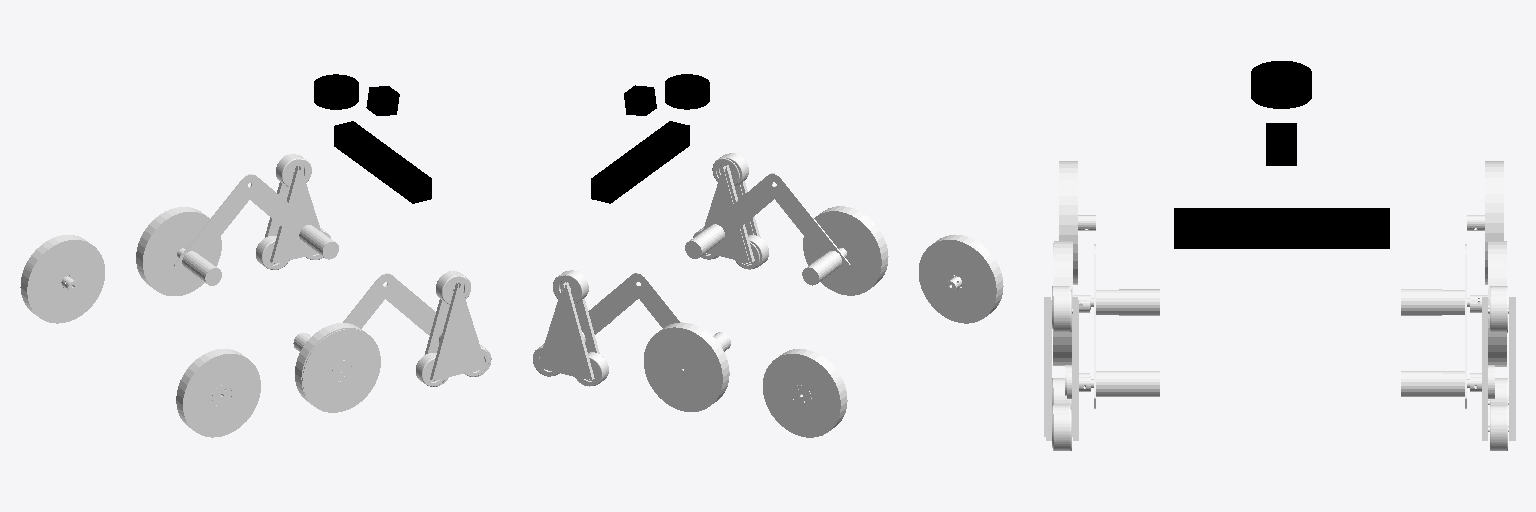
The robot description file, URDF, robot "r2krishna":
<?xml version="1.0" encoding="utf-8"?>
<robot name="r2krishna">

  <material name="white"><color rgba="1 1 1 1"/></material>
  <material name="black"><color rgba="0 0 0 1"/></material>
  <material name="red"><color rgba="1 0 0 1"/></material>

  <link name="base_footprint"/>
  <joint name="base_footprint_joint" type="fixed">
    <parent link="base_footprint"/>
    <child link="base_link"/>
    <origin xyz="0 0 0" rpy="0 0 0"/>
  </joint>

  <link name="base_link">
    <inertial>
      <origin xyz="-0.1 0 -0.05" rpy="0 0 0"/> 
      <mass value="25.0"/> 
      <inertia ixx="0.5" ixy="0" ixz="0" iyy="0.5" iyz="0" izz="0.5"/>
    </inertial>
    <visual>
      <origin xyz="0 0 0" rpy="0 0 0"/>
      <geometry><mesh filename="package://r2krishna/meshes/base.STL"/></geometry>
      <material name="white"/>
    </visual>
    <collision>
      <origin xyz="0 0 0.05" rpy="0 0 0"/>
      <geometry><box size="0.6 0.4 0.15"/></geometry>
    </collision>
  </link>

  <link name="imu_link"/>
  <joint name="imu_joint" type="fixed">
    <parent link="base_link"/>
    <child link="imu_link"/>
    <origin xyz="0 0 0" rpy="0 0 0"/>
  </joint>

  <link name="lidar_link">
    <visual><geometry><cylinder radius="0.05" length="0.04"/></geometry><material name="black"/></visual>
    <inertial><mass value="0.1"/><inertia ixx="0.0001" ixy="0" ixz="0" iyy="0.0001" iyz="0" izz="0.0001"/></inertial>
  </link>
  <joint name="lidar_joint" type="fixed">
    <parent link="base_link"/>
    <child link="lidar_link"/>
    <origin xyz="0.20 0 0.25" rpy="0 0 0"/>
  </joint>

  <link name="camera_link">
    <visual><geometry><box size="0.05 0.05 0.05"/></geometry><material name="black"/></visual>
    <inertial><mass value="0.05"/><inertia ixx="0.0001" ixy="0" ixz="0" iyy="0.0001" iyz="0" izz="0.0001"/></inertial>
  </link>
  <joint name="camera_joint" type="fixed">
    <parent link="base_link"/>
    <child link="camera_link"/>
    <origin xyz="0.32 0 0.2" rpy="0 0.15 0"/>
  </joint>

  <gazebo reference="camera_link">
    <sensor name="camera" type="camera"> 
      <visualize>true</visualize>
      <update_rate>30</update_rate>
      <topic>/camera/image_raw</topic> 
      <camera>
        <horizontal_fov>1.047</horizontal_fov>
        <image><width>640</width><height>480</height><format>R8G8B8</format></image>
        <clip><near>0.05</near><far>10.0</far></clip>
       </camera>
    </sensor>
  </gazebo>

  <link name="bumper_link">
    <visual><geometry><box size="0.05 0.35 0.05"/></geometry><material name="black"/></visual>
    <collision name="bumper_collision"><geometry><box size="0.05 0.35 0.05"/></geometry></collision>
    <inertial><mass value="0.1"/><inertia ixx="0.001" ixy="0" ixz="0" iyy="0.001" iyz="0" izz="0.001"/></inertial>
  </link>
  <joint name="bumper_joint" type="fixed"><parent link="base_link"/><child link="bumper_link"/><origin xyz="0.32 0 0.05" rpy="0 0 0"/></joint>

  <link name="left_rover_side">
    <inertial><origin xyz="-0.026 0 -0.145"/><mass value="5.0"/><inertia ixx="0.1" ixy="0" ixz="0" iyy="0.1" iyz="0" izz="0.1"/></inertial>
    <visual><geometry><mesh filename="package://r2krishna/meshes/left_rover_side.STL"/></geometry><material name="white"/></visual>
  </link>
  <joint name="left_rover_side_joint" type="revolute">
    <origin xyz="0.151 -0.3 -0.086"/><parent link="base_link"/><child link="left_rover_side"/><axis xyz="0 1 0"/>
    <limit lower="-0.4" upper="0.4" effort="1000" velocity="10"/>
    <dynamics damping="2.0" friction="1.0"/>
  </joint>

  <link name="left_1">
    <visual><geometry><mesh filename="package://r2krishna/meshes/left_1.STL"/></geometry><material name="white"/></visual>
    <collision><origin xyz="0 -0.02 0" rpy="1.57 0 0"/><geometry><cylinder radius="0.15" length="0.05"/></geometry></collision>
    <inertial><mass value="2.0"/><inertia ixx="0.1" ixy="0" ixz="0" iyy="0.1" iyz="0" izz="0.1"/></inertial>
  </link>
  <joint name="left_1_joint" type="continuous"><origin xyz="-0.15 -0.01 -0.15"/><parent link="left_rover_side"/><child link="left_1"/><axis xyz="0 1 0"/></joint>

  <link name="left_2">
    <visual><geometry><mesh filename="package://r2krishna/meshes/left_2.STL"/></geometry><material name="white"/></visual>
    <collision><origin xyz="0 -0.02 0" rpy="1.57 0 0"/><geometry><cylinder radius="0.15" length="0.05"/></geometry></collision>
    <inertial><mass value="2.0"/><inertia ixx="0.1" ixy="0" ixz="0" iyy="0.1" iyz="0" izz="0.1"/></inertial>
  </link>
  <joint name="left_2_joint" type="continuous"><origin xyz="-0.3 -0.3 -0.23"/><parent link="base_link"/><child link="left_2"/><axis xyz="0 1 0"/></joint>

  <link name="right_rover_side">
    <inertial><origin xyz="-0.026 0 -0.145"/><mass value="5.0"/><inertia ixx="0.1" ixy="0" ixz="0" iyy="0.1" iyz="0" izz="0.1"/></inertial>
    <visual><geometry><mesh filename="package://r2krishna/meshes/right_rover_side.STL"/></geometry><material name="white"/></visual>
  </link>
  <joint name="right_rover_side_joint" type="revolute">
    <origin xyz="0.151 0.295 -0.086"/><parent link="base_link"/><child link="right_rover_side"/><axis xyz="0 1 0"/>
    <limit lower="-0.4" upper="0.4" effort="1000" velocity="10"/>
    <dynamics damping="2.0" friction="1.0"/>
  </joint>

  <link name="right_1">
    <visual><geometry><mesh filename="package://r2krishna/meshes/right_1.STL"/></geometry><material name="white"/></visual>
    <collision><origin xyz="0 0.02 0" rpy="1.57 0 0"/><geometry><cylinder radius="0.15" length="0.05"/></geometry></collision>
    <inertial><mass value="2.0"/><inertia ixx="0.1" ixy="0" ixz="0" iyy="0.1" iyz="0" izz="0.1"/></inertial>
  </link>
  <joint name="right_1_joint" type="continuous"><origin xyz="-0.15 0.01 -0.15"/><parent link="right_rover_side"/><child link="right_1"/><axis xyz="0 1 0"/></joint>

  <link name="right_2">
    <visual><geometry><mesh filename="package://r2krishna/meshes/right_2.STL"/></geometry><material name="white"/></visual>
    <collision>
        <origin xyz="0 0.02 0" rpy="1.57 0 0"/><geometry><cylinder radius="0.15" length="0.05"/></geometry>
        <surface><friction><ode><mu>2.0</mu><mu2>2.0</mu2></ode></friction></surface>
    </collision>
    <inertial><mass value="2.0"/><inertia ixx="0.1" ixy="0" ixz="0" iyy="0.1" iyz="0" izz="0.1"/></inertial>
  </link>
  <joint name="right_2_joint" type="continuous"><origin xyz="-0.3 0.3 -0.23"/><parent link="base_link"/><child link="right_2"/><axis xyz="0 1 0"/></joint>

  <link name="tri_1">
    <visual><geometry><mesh filename="package://r2krishna/meshes/tri_1.STL"/></geometry><material name="white"/></visual>
    <collision><origin xyz="0 -0.04 0"/><geometry><box size="0.2 0.05 0.2"/></geometry></collision>
    <inertial><mass value="2.0"/><inertia ixx="0.1" ixy="0" ixz="0" iyy="0.1" iyz="0" izz="0.1"/></inertial>
  </link>
  <joint name="tri_1_joint" type="continuous"><origin xyz="0.14 -0.01 -0.15"/><parent link="left_rover_side"/><child link="tri_1"/><axis xyz="0 1 0"/></joint>

  <link name="tri_2">
    <visual><geometry><mesh filename="package://r2krishna/meshes/tri_2.STL"/></geometry><material name="white"/></visual>
    <collision><origin xyz="0 0.04 0"/><geometry><box size="0.2 0.05 0.2"/></geometry></collision>
    <inertial><mass value="2.0"/><inertia ixx="0.1" ixy="0" ixz="0" iyy="0.1" iyz="0" izz="0.1"/></inertial>
  </link>
  <joint name="tri_2_joint" type="continuous"><origin xyz="0.14 0.01 -0.15"/><parent link="right_rover_side"/><child link="tri_2"/><axis xyz="0 1 0"/></joint>

  <link name="caster_back">
    <collision>
        <geometry><sphere radius="0.1"/></geometry>
        <surface>
            <friction>
                <ode>
                    <mu>0.0</mu>
                    <mu2>0.0</mu2>
                    <slip1>1.0</slip1>
                    <slip2>1.0</slip2>
                </ode>
            </friction>
        </surface>
    </collision>
    <inertial><mass value="15.0"/><inertia ixx="0.1" ixy="0" ixz="0" iyy="0.1" iyz="0" izz="0.1"/></inertial>
  </link>
  <joint name="caster_back_joint" type="fixed"><parent link="base_link"/><child link="caster_back"/><origin xyz="-0.3 0 -0.15"/></joint>

  <gazebo>
    <plugin filename="gz-sim-diff-drive-system" name="gz::sim::systems::DiffDrive">
      <left_joint>left_2_joint</left_joint><left_joint>left_1_joint</left_joint>
      <right_joint>right_2_joint</right_joint><right_joint>right_1_joint</right_joint>
      <wheel_separation>0.6</wheel_separation><wheel_radius>0.15</wheel_radius>
      <topic>/cmd_vel</topic><odom_topic>/odom</odom_topic><tf_topic>/tf</tf_topic>
      <frame_id>odom</frame_id><child_frame_id>base_footprint</child_frame_id>
    </plugin>
    <plugin filename="gz-sim-diff-drive-system" name="gz::sim::systems::DiffDrive">
      <left_joint>tri_1_joint</left_joint><right_joint>tri_2_joint</right_joint>
      <wheel_separation>0.6</wheel_separation><wheel_radius>0.15</wheel_radius>
      <topic>/cmd_vel_front</topic>
    </plugin>
    <plugin filename="gz-sim-joint-state-publisher-system" name="gz::sim::systems::JointStatePublisher"><topic>joint_states</topic></plugin>
    <plugin filename="gz-sim-imu-system" name="gz::sim::systems::Imu"></plugin>
  </gazebo>
  
  <gazebo reference="lidar_link">
    <sensor name="lidar" type="gpu_lidar">
      <pose>0 0 0 0 0 0</pose><visualize>true</visualize><update_rate>10</update_rate><topic>/scan</topic>
      <ray><scan><horizontal><samples>360</samples><min_angle>-3.14</min_angle><max_angle>3.14</max_angle></horizontal></scan><range><min>0.05</min><max>25.0</max></range></ray>
    </sensor>
  </gazebo>
  <gazebo reference="imu_link"><sensor name="imu" type="imu"><topic>/imu</topic><update_rate>50</update_rate><always_on>1</always_on></sensor></gazebo>
</robot>

--- Facts derived from the render (not from the file) ---
3 views of the same robot in one strip: view 1: azimuth 30°, elevation 25°; view 2: azimuth 150°, elevation 25°; view 3: azimuth 270°, elevation 25° (orthographic).
Model r2krishna with 15 links and 14 joints (2 revolute, 6 continuous, 6 fixed), rooted at base_footprint, posed all joints at 0.
Visible links, largest first — view 1: right_rover_side, right_2, left_2, left_1, tri_1, left_rover_side, bumper_link, tri_2, lidar_link, right_1, camera_link; view 2: left_rover_side, right_rover_side, left_2, right_2, bumper_link, tri_2, right_1, lidar_link, tri_1, camera_link; view 3: bumper_link, right_rover_side, left_rover_side, lidar_link, left_2, right_2, camera_link, tri_1, right_1, left_1, tri_2.
Link boxes in pixels (box(x1,y1,x2,y2)): right_rover_side: box(136, 155, 338, 295); right_2: box(20, 235, 104, 323); left_2: box(176, 349, 260, 437); left_1: box(302, 329, 380, 412); tri_1: box(416, 271, 488, 386); left_rover_side: box(293, 271, 491, 403); bumper_link: box(334, 121, 431, 203); tri_2: box(256, 154, 319, 269); lidar_link: box(314, 74, 358, 109); right_1: box(144, 213, 221, 295); camera_link: box(366, 86, 399, 115); left_rover_side: box(685, 154, 888, 294); right_rover_side: box(533, 271, 730, 410); left_2: box(919, 235, 1003, 323); right_2: box(763, 349, 847, 437); bumper_link: box(591, 121, 689, 203); tri_2: box(536, 270, 608, 385); right_1: box(644, 328, 721, 411); lidar_link: box(665, 74, 709, 109); tri_1: box(704, 153, 768, 268); camera_link: box(624, 85, 656, 115); bumper_link: box(1174, 208, 1389, 248); right_rover_side: box(1401, 241, 1515, 450); left_rover_side: box(1046, 241, 1159, 450); lidar_link: box(1251, 61, 1311, 108); left_2: box(1059, 161, 1095, 284); right_2: box(1467, 161, 1503, 284); camera_link: box(1266, 123, 1296, 165); tri_1: box(1044, 286, 1089, 447); right_1: box(1470, 284, 1506, 366); left_1: box(1053, 243, 1089, 365); tri_2: box(1470, 286, 1515, 426).
Bounding box of the posed robot: 0.7845 × 0.763 × 0.606 m (x, y, z).
8 mesh visuals loaded from 9 distinct referenced files (8 binary STL); not drawn: 1 (reference not matched to a file when rendering).
